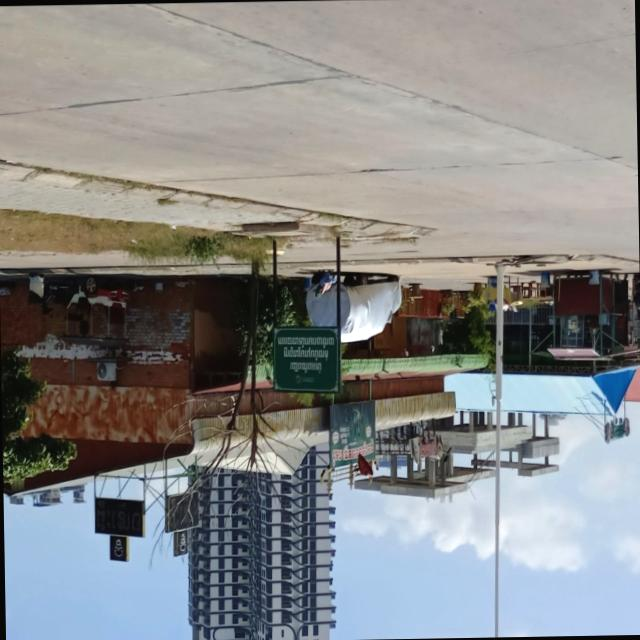Yolov11kh: (276, 333, 334, 349), (282, 346, 329, 361), (288, 360, 323, 374)
